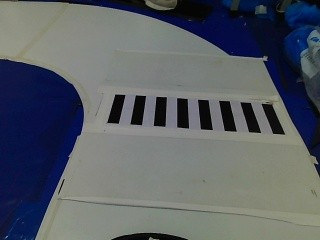crosswalk: (92, 86, 294, 140)
